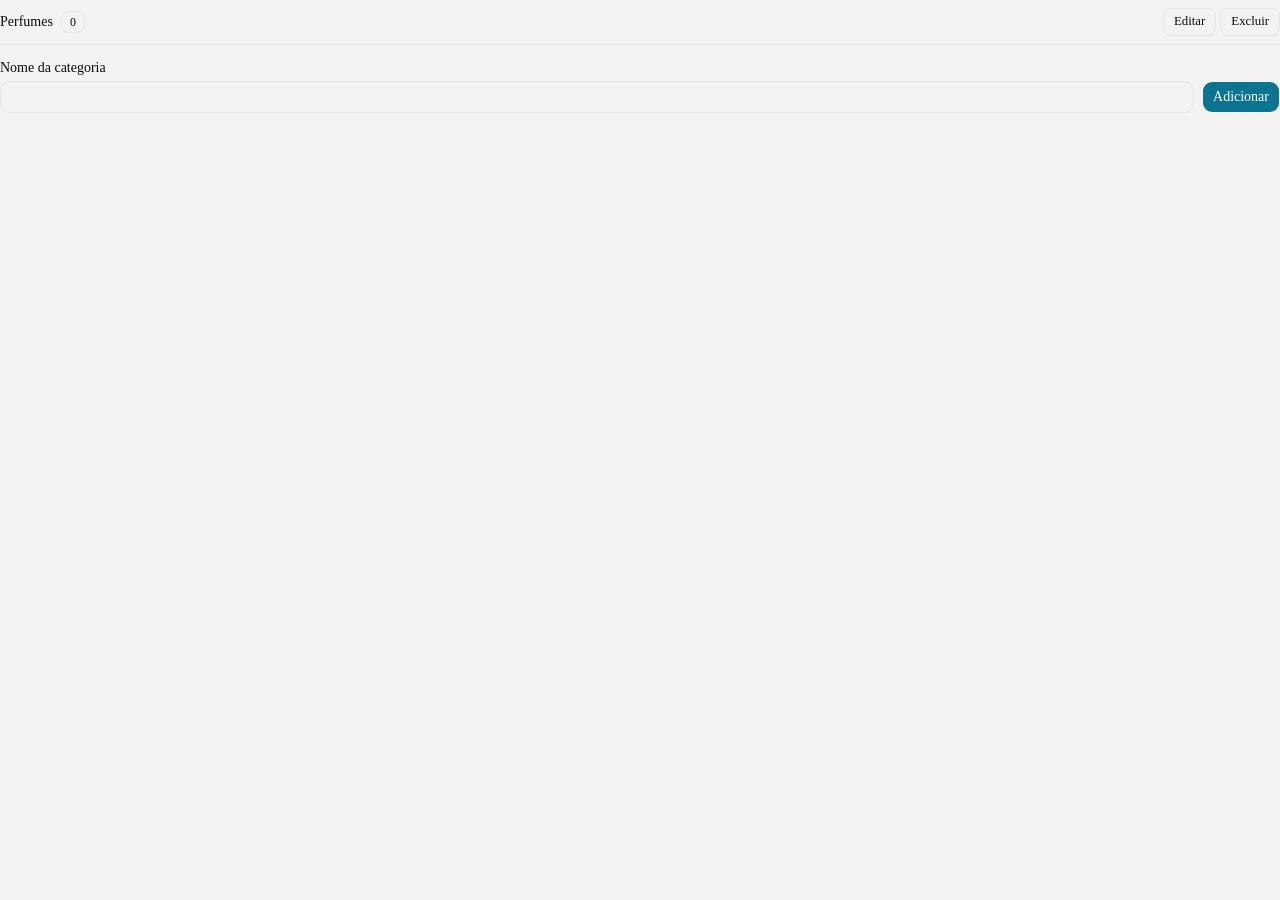
Test: CategoryList › shows an error message when renaming a category fails
Expected: the text "Perfumes" is shown, [0,12,53,32]
Click the button with aria-label "editar perfumes".
click(1190, 22)  # box [1163,8,1216,36]
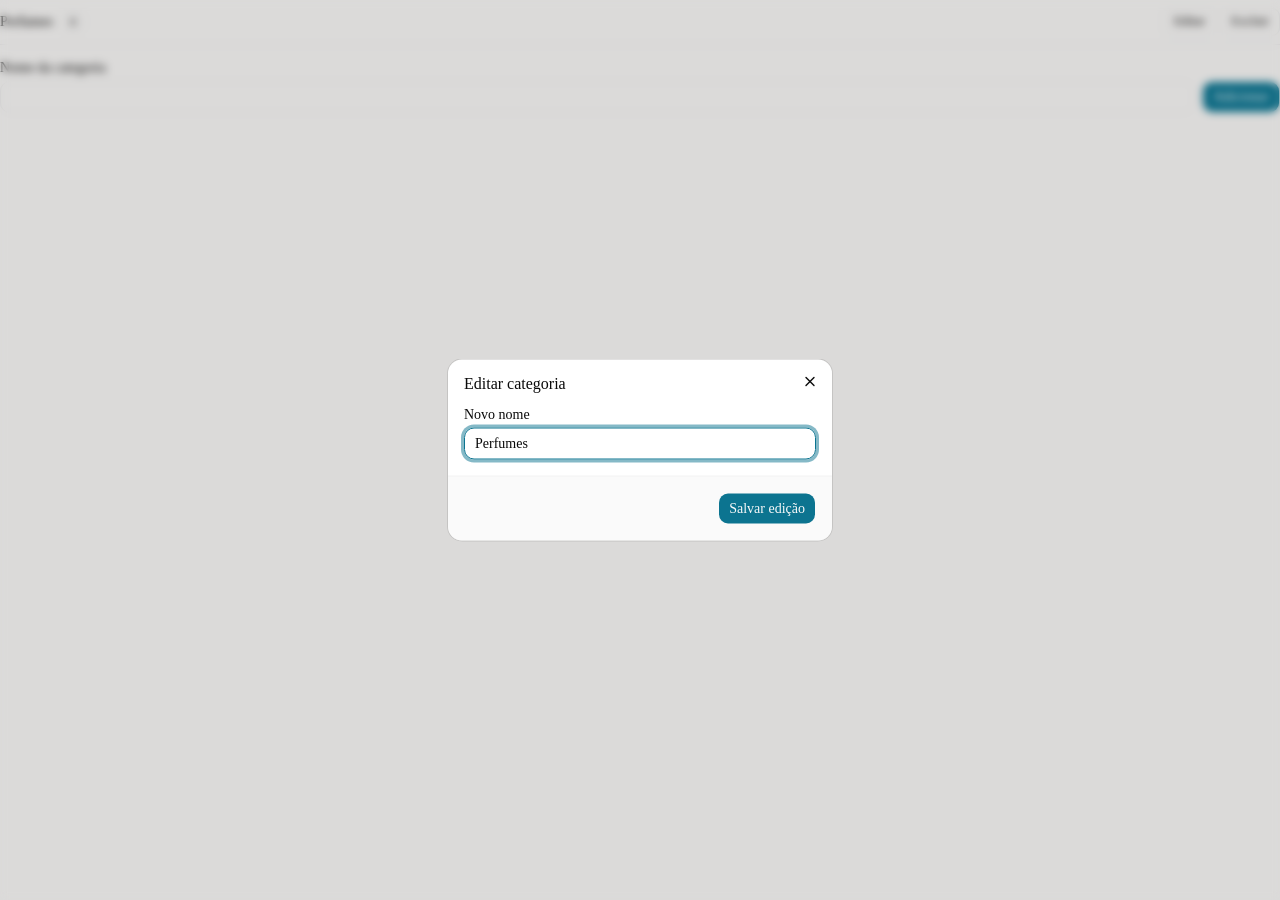
Click the button "Salvar edição".
click(767, 508)  # box [718,492,816,524]
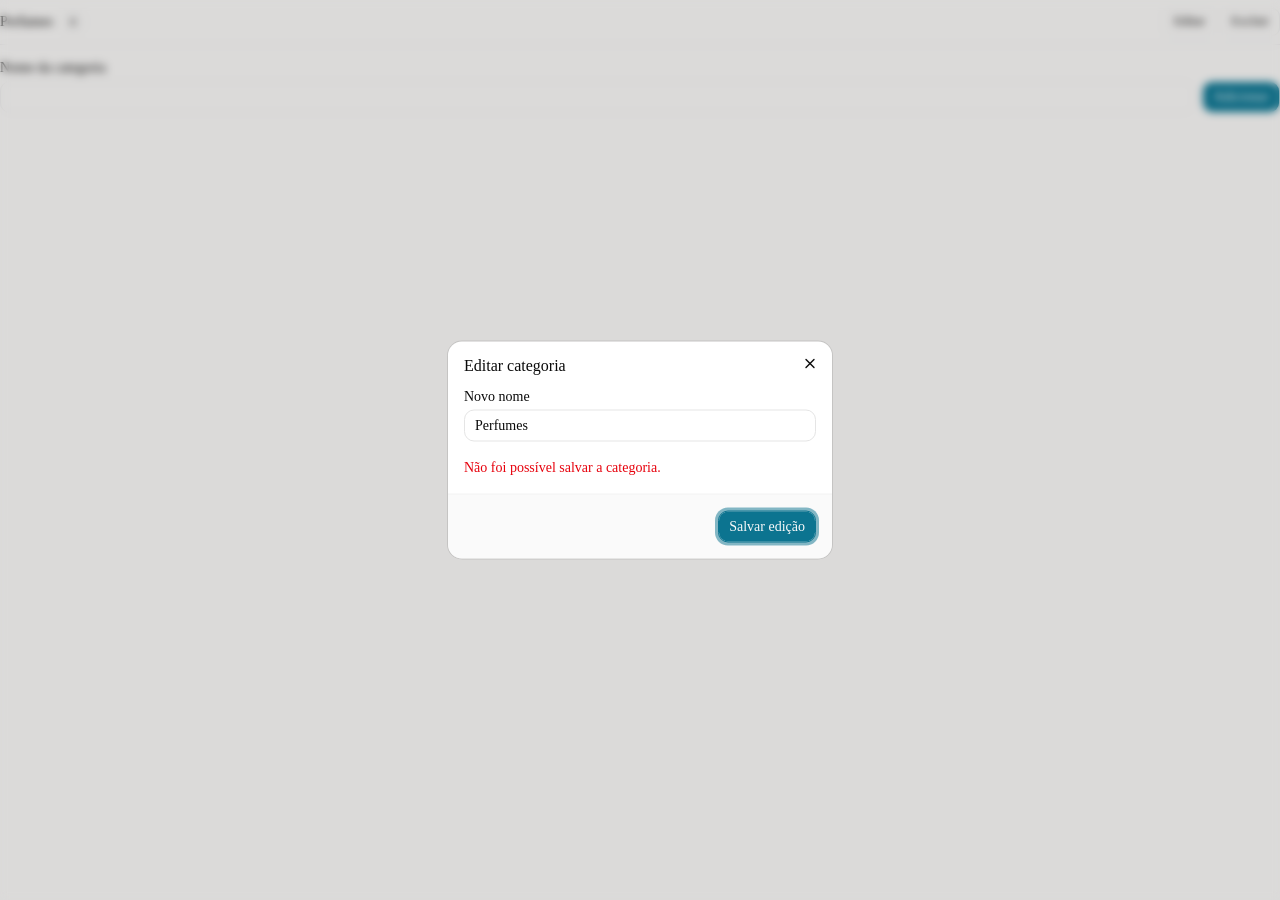
Now the text "Não foi possível salvar a categoria." is shown, box [464,460,661,474]
